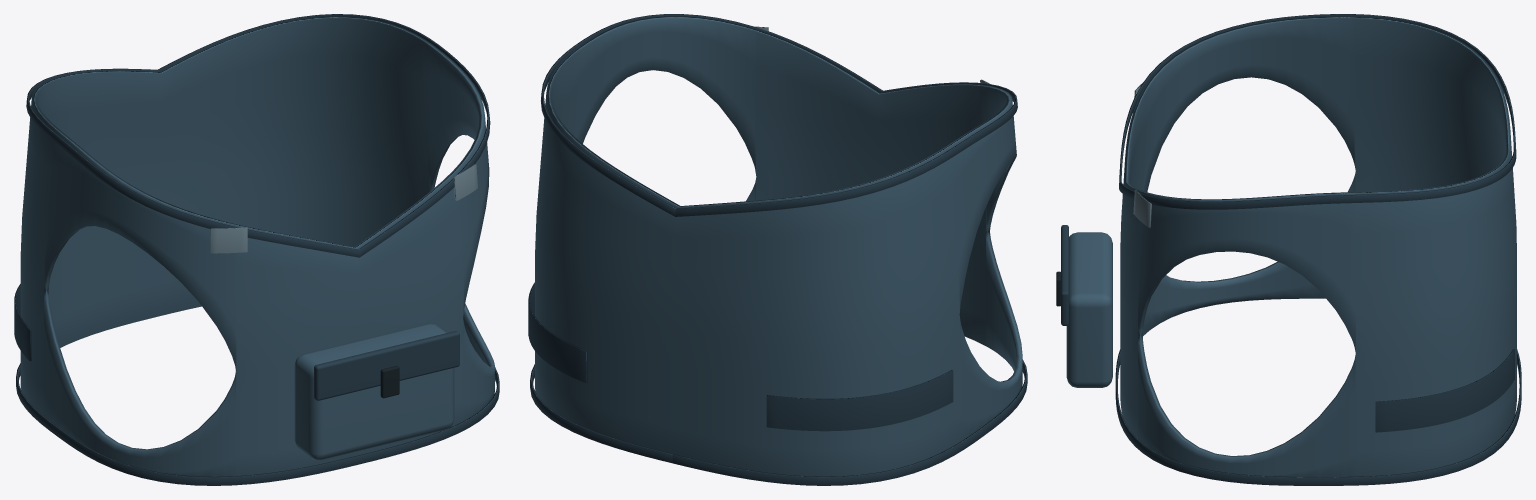
File: goose-recon-vest.glb
3 views of the same model, side by side, from view 1: azimuth 30°, elevation 25°; view 2: azimuth 150°, elevation 25°; view 3: azimuth 270°, elevation 25° (orthographic). The views are drawn at different scales.
Parts seen in each view (by area): view 1: goose_vest_recon_mesh; view 2: goose_vest_recon_mesh; view 3: goose_vest_recon_mesh.
Part boxes in pixels (x1,y1,x2,y2): goose_vest_recon_mesh: (14,14,499,485); goose_vest_recon_mesh: (528,14,1027,485); goose_vest_recon_mesh: (1056,14,1521,485).
Size of the model in its own units: 1.03 by 0.7133 by 1.05.
